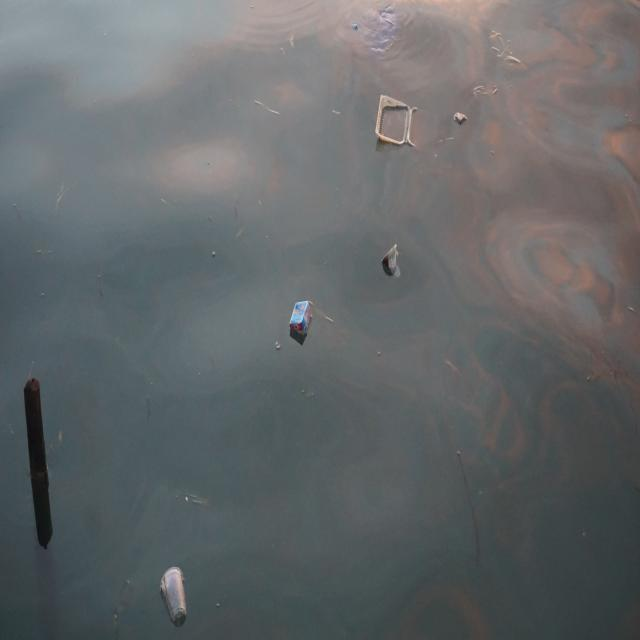Bungkus Makanan: (375, 85, 438, 161)
Bungkus Minuman: (156, 559, 191, 631)
